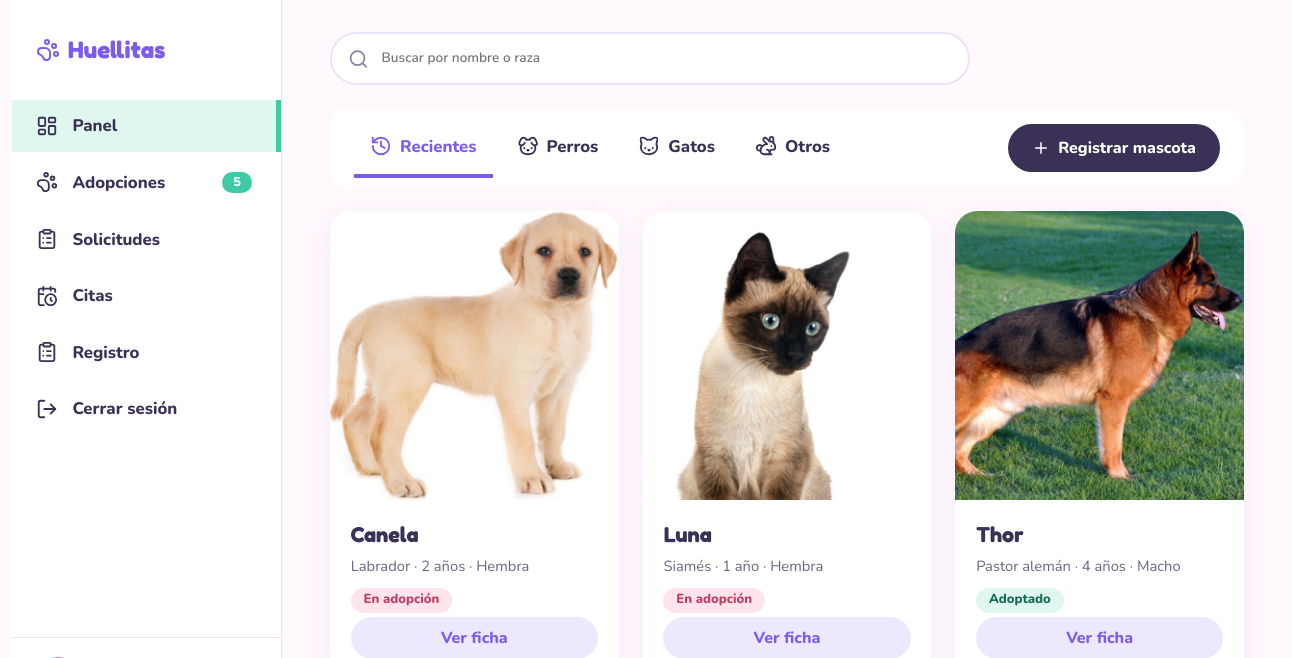
Test case: Solicitudes de adopción › la solicitud enviada aparece como Pendiente en Solicitudes
Click the button "Adopciones 5" at (146, 182), box [12,157,281,208]
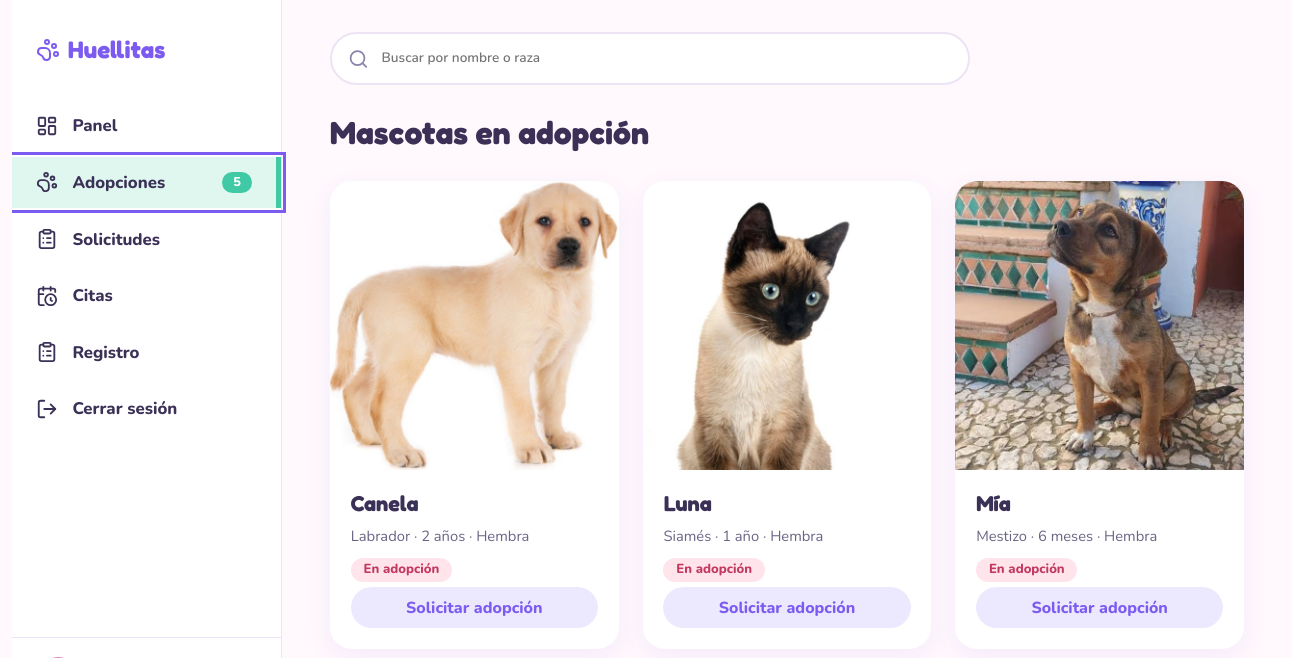
Click the button "Solicitar adopción" below "Labrador" at (474, 608), box [351,587,598,628]
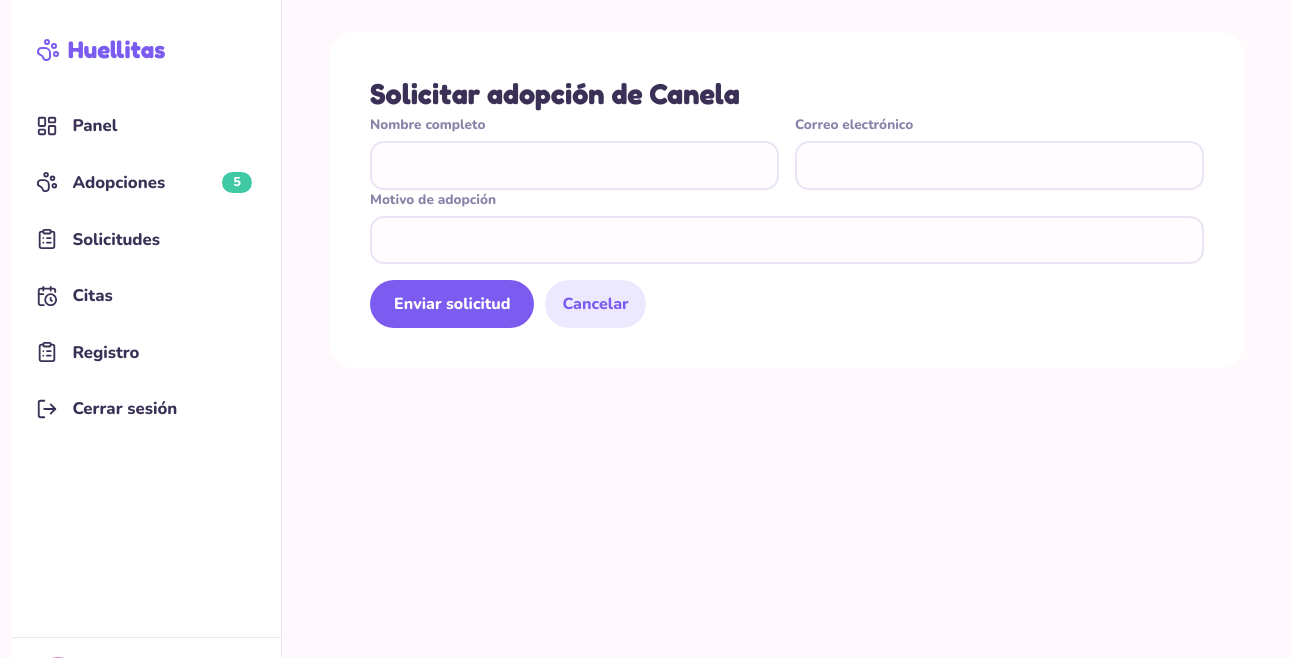
Type "Carlos Solicitante" into the field labelled "Nombre completo" at (574, 165), box [370,141,779,190]
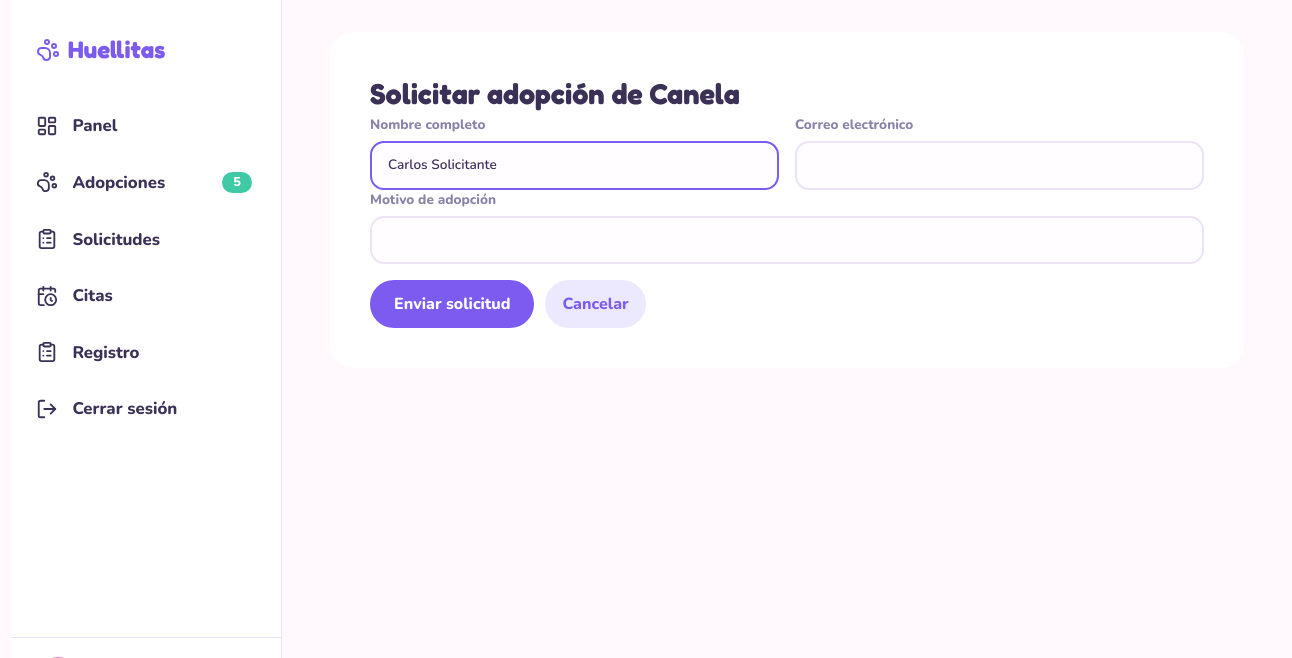
Type "carlos@correo.com" into the field labelled "Correo electrónico" at (1000, 165), box [795,141,1204,190]
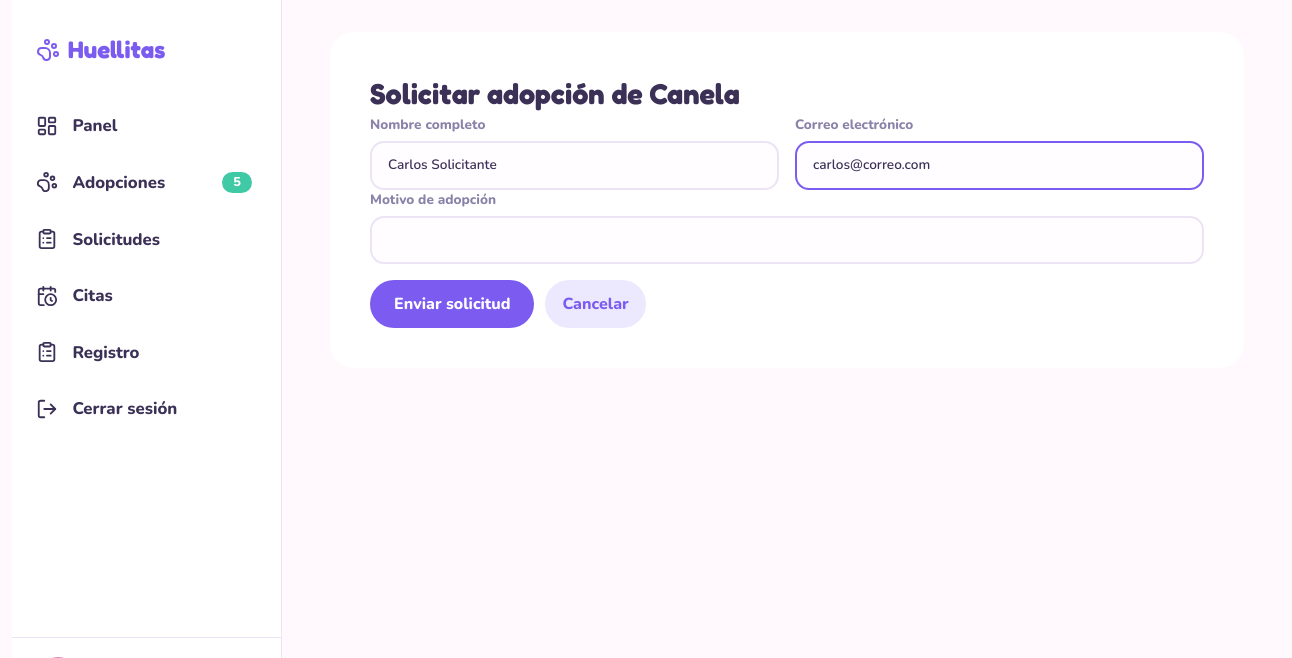
Type "Quiero darle un hogar" into the field labelled "Motivo de adopción" at (787, 240), box [370,216,1204,264]
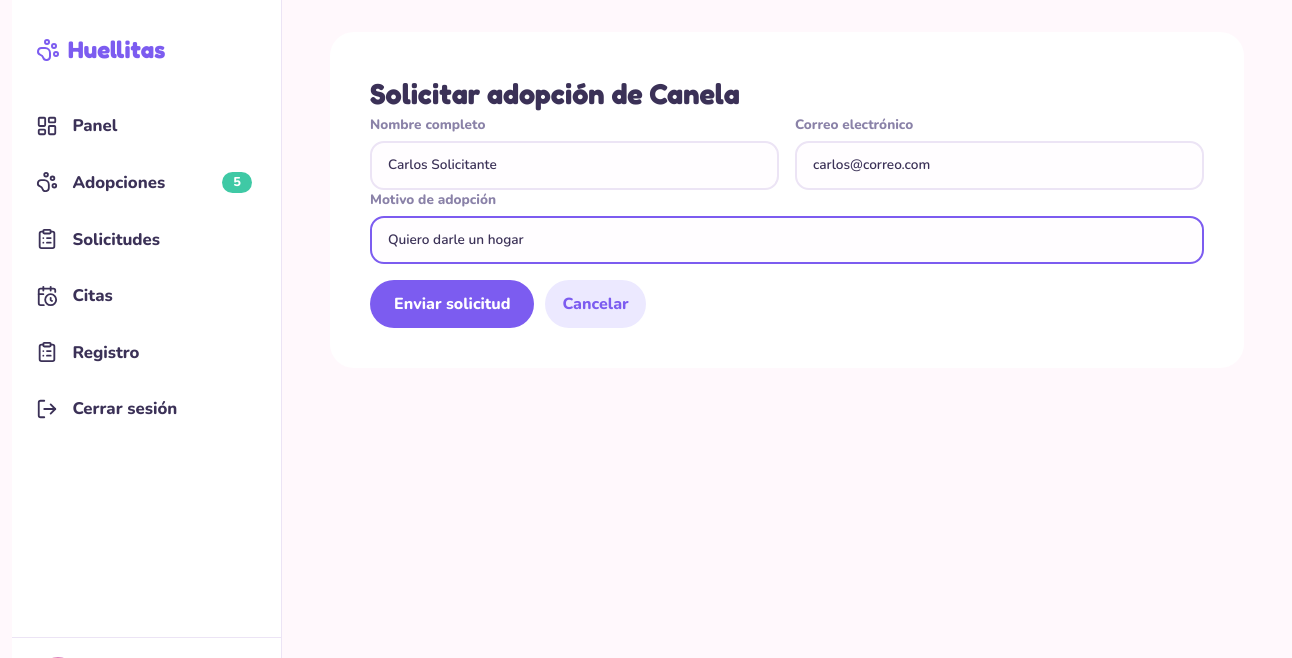
Click the button "Enviar solicitud" at (452, 304), box [370,280,534,328]
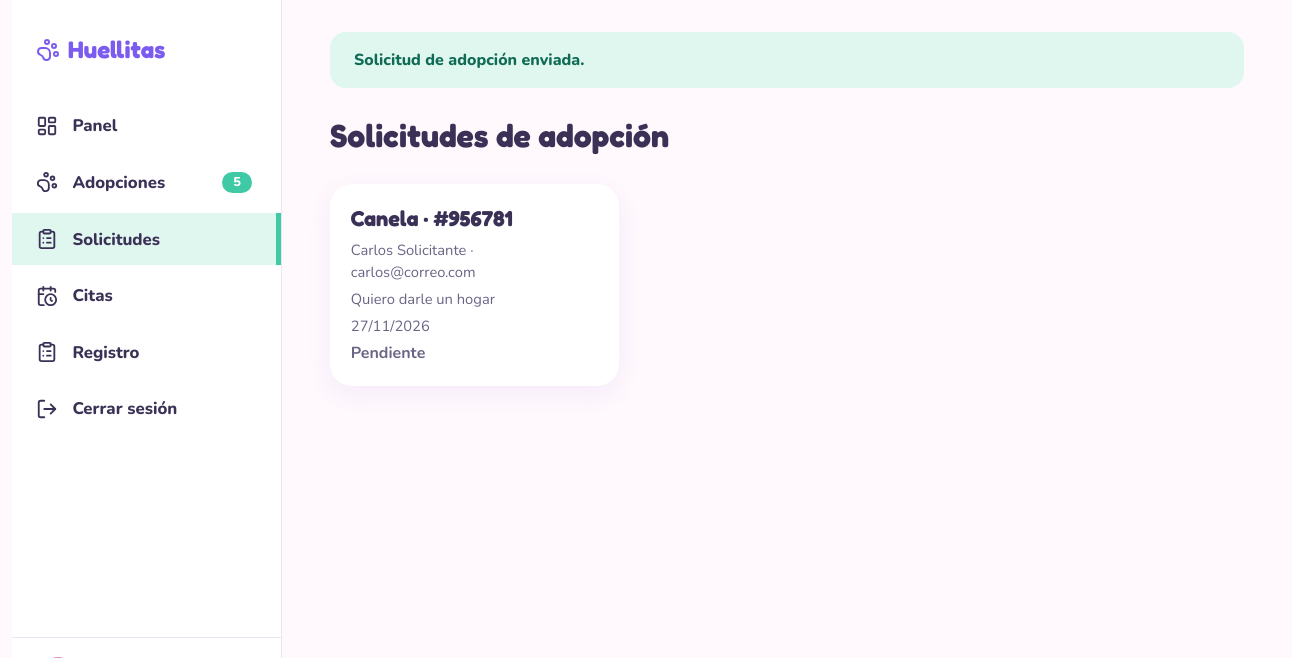
Result: the heading "Solicitudes de adopción" is shown at [330,116,669,155]
Result: the message reads "Solicitud de adopción enviada." at [354,49,584,71]
Result: the heading "Canela · #956781" is shown at [351,205,513,231]
